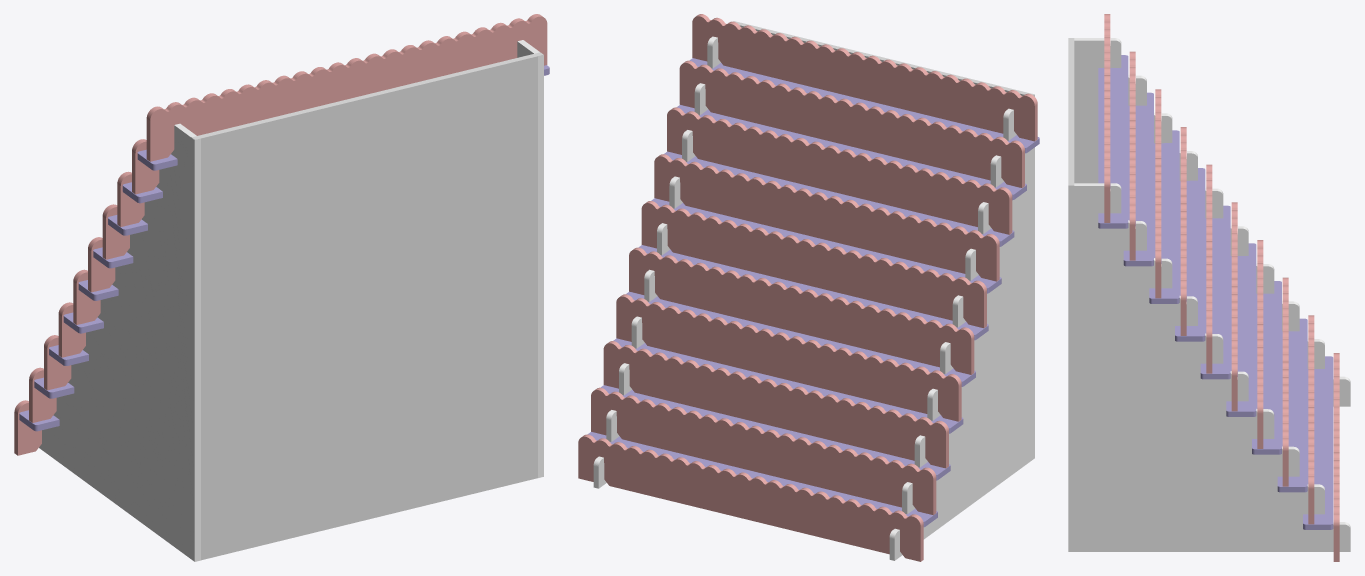
File: SONIA.glb
The picture shows the model from 3 angles, left to right: view 1: azimuth 30°, elevation 25°; view 2: azimuth 150°, elevation 25°; view 3: azimuth 270°, elevation 25°; orthographic projection. The views are drawn at different scales.
Parts seen in each view (by area): view 1: Cube, Curve, Curve.002, Curve.001; view 2: Curve.002, Curve, Curve.001, Cube; view 3: Curve, Curve.001, Curve.002, Cube.
Part boxes in pixels (<box>): Cube: <box>191,52,543,560</box>; Curve: <box>39,40,543,561</box>; Curve.002: <box>14,14,547,455</box>; Curve.001: <box>19,65,549,431</box>; Curve.002: <box>578,14,1037,561</box>; Curve: <box>593,36,1034,560</box>; Curve.001: <box>587,58,1039,527</box>; Cube: <box>733,21,1034,95</box>; Curve: <box>1068,38,1350,551</box>; Curve.001: <box>1098,55,1333,529</box>; Curve.002: <box>1104,14,1339,561</box>; Cube: <box>1068,38,1074,185</box>.
Bounding box in the file's own units: 3.3 × 3.5 × 2.34.
